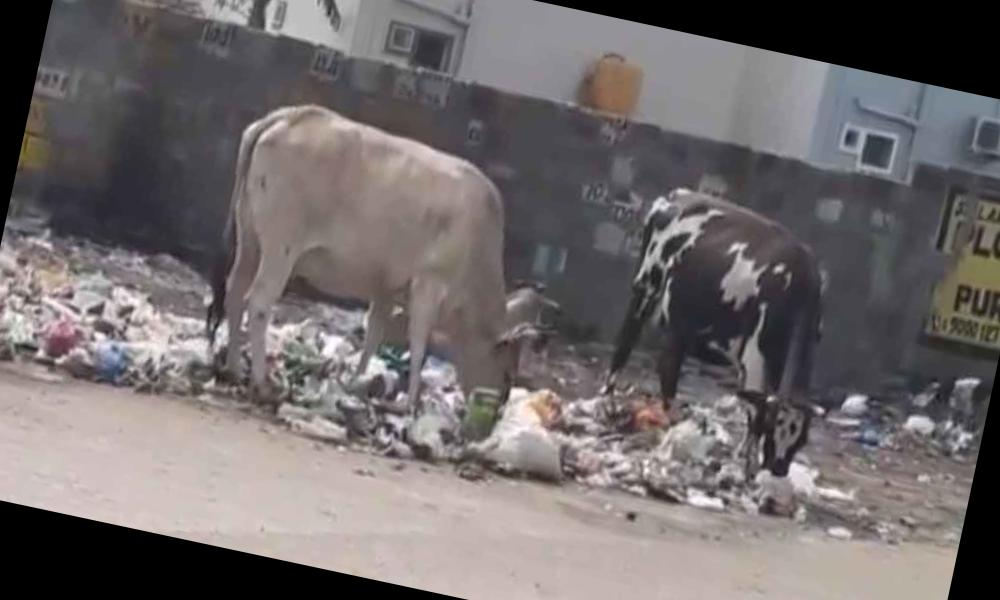road: (0, 361, 958, 600)
trash: (0, 231, 250, 396), (0, 232, 212, 392), (559, 391, 763, 511), (265, 301, 406, 421), (376, 356, 464, 457), (467, 390, 563, 481), (755, 469, 797, 517), (787, 461, 819, 497), (903, 414, 935, 436), (840, 393, 868, 417), (827, 416, 862, 429), (860, 428, 882, 446)
